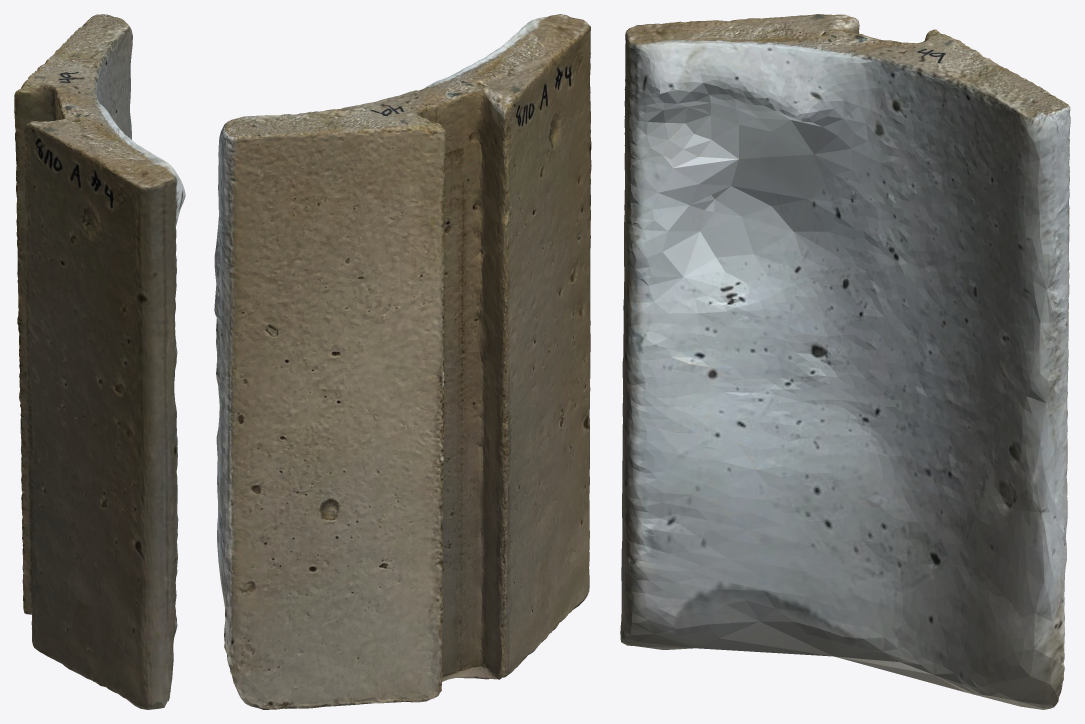
The model's file is Pixel 49.glb.
3 views of the same model, side by side, from view 1: azimuth 30°, elevation 25°; view 2: azimuth 150°, elevation 25°; view 3: azimuth 270°, elevation 25° (orthographic). The views are drawn at different scales.
Size of the model in its own units: 0.0948 by 0.2605 by 0.1704.
Materials: 1 (1 with a texture image).
